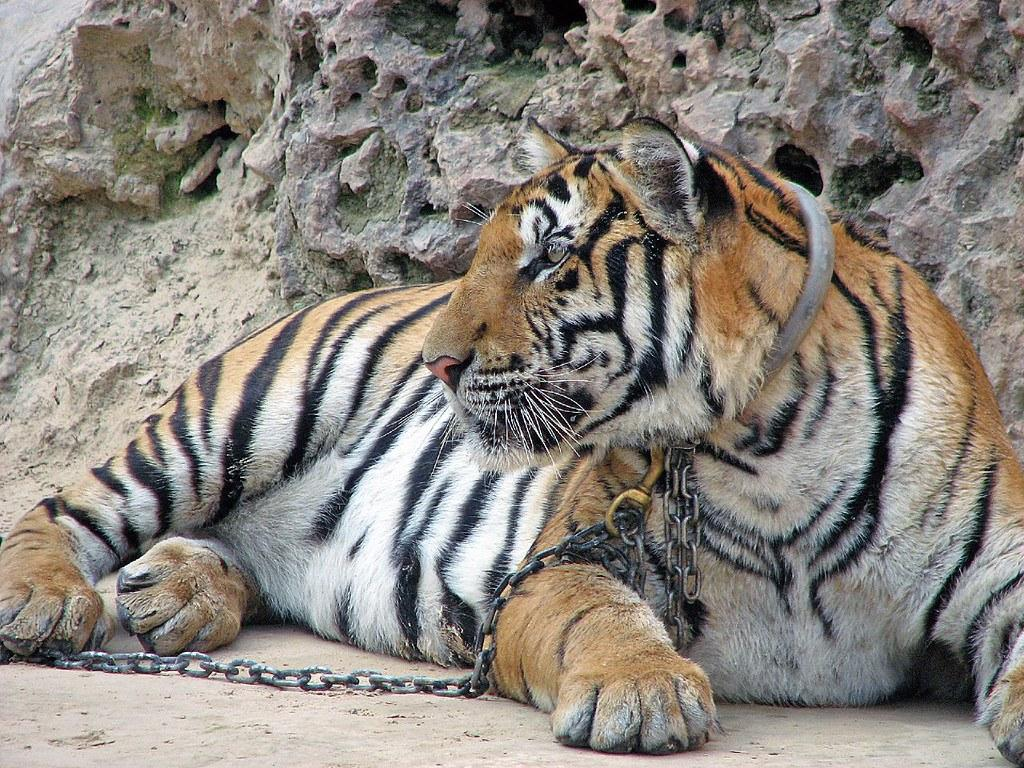tiger: (2, 113, 1023, 761)
